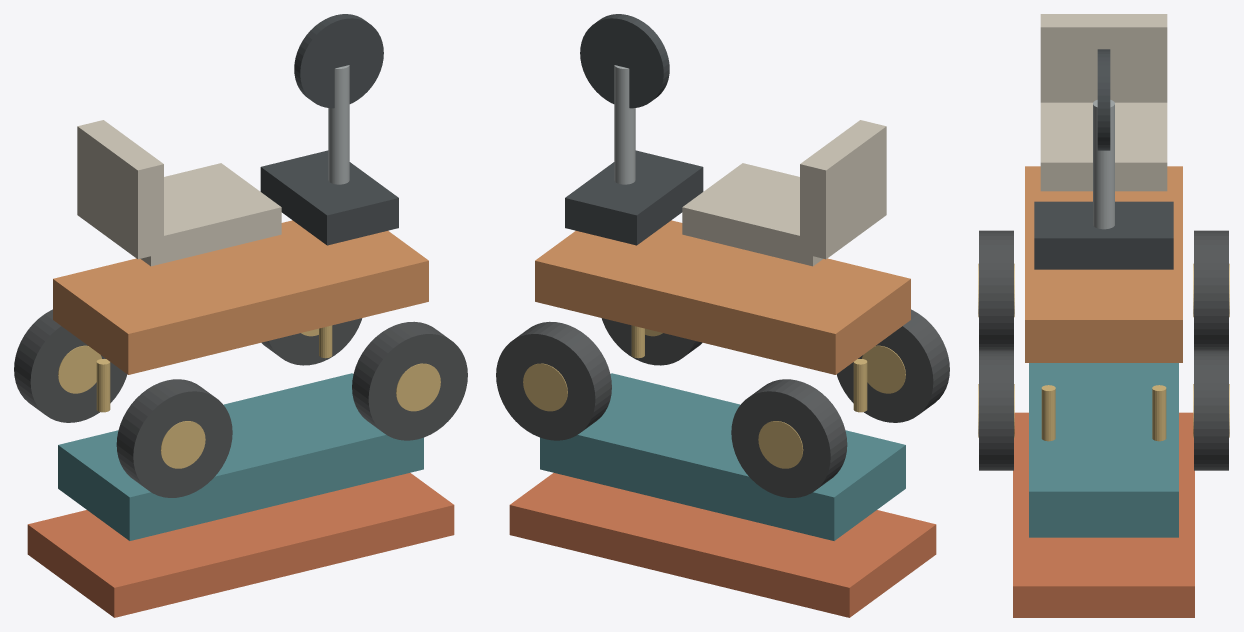
File: engineering-exploded.glb
3 views of the same model, side by side, from view 1: azimuth 30°, elevation 25°; view 2: azimuth 150°, elevation 25°; view 3: azimuth 270°, elevation 25° (orthographic). The views are drawn at different scales.
Parts seen in each view (by area): view 1: upper_body_shell, base_platform, lower_chassis, seat_back, wheel_-0.9_0.68, wheel_0.9_0.68, seat_cushion, dashboard, steering_ring, wheel_-0.9_-0.68, steering_stem, wheel_0.9_-0.68 (+4 smaller); view 2: upper_body_shell, base_platform, lower_chassis, seat_back, wheel_-0.9_-0.68, wheel_0.9_-0.68, seat_cushion, dashboard, steering_ring, wheel_-0.9_0.68, steering_stem, wheel_0.9_0.68 (+4 smaller); view 3: lower_chassis, base_platform, upper_body_shell, seat_back, seat_cushion, dashboard, wheel_-0.9_-0.68, wheel_-0.9_0.68, wheel_0.9_-0.68, wheel_0.9_0.68, steering_stem, steering_ring (+2 smaller).
Boxes of the visible parts, <box> form: upper_body_shell: <box>53,220,428,374</box>; base_platform: <box>27,473,454,617</box>; lower_chassis: <box>58,373,423,540</box>; seat_back: <box>77,120,163,259</box>; wheel_-0.9_0.68: <box>116,379,232,497</box>; wheel_0.9_0.68: <box>352,321,467,440</box>; seat_cushion: <box>140,163,281,266</box>; dashboard: <box>260,150,398,245</box>; steering_ring: <box>294,14,383,108</box>; wheel_-0.9_-0.68: <box>14,309,127,422</box>; steering_stem: <box>328,65,349,184</box>; wheel_0.9_-0.68: <box>261,318,362,365</box>; upper_body_shell: <box>535,220,910,374</box>; base_platform: <box>509,473,936,617</box>; lower_chassis: <box>540,373,905,540</box>; seat_back: <box>800,120,886,259</box>; wheel_-0.9_-0.68: <box>731,379,847,497</box>; wheel_0.9_-0.68: <box>496,321,611,440</box>; seat_cushion: <box>682,163,823,266</box>; dashboard: <box>565,150,703,245</box>; steering_ring: <box>580,14,669,108</box>; wheel_-0.9_0.68: <box>836,309,949,422</box>; steering_stem: <box>614,65,635,184</box>; wheel_0.9_0.68: <box>601,318,702,365</box>; lower_chassis: <box>1029,363,1178,537</box>; base_platform: <box>1013,412,1194,617</box>; upper_body_shell: <box>1025,166,1182,362</box>; seat_back: <box>1040,14,1167,102</box>; seat_cushion: <box>1040,102,1167,191</box>; dashboard: <box>1034,201,1173,269</box>; wheel_-0.9_-0.68: <box>1194,230,1228,350</box>; wheel_-0.9_0.68: <box>979,230,1013,350</box>; wheel_0.9_-0.68: <box>1194,350,1228,470</box>; wheel_0.9_0.68: <box>979,350,1013,470</box>; steering_stem: <box>1093,100,1114,229</box>; steering_ring: <box>1097,49,1110,150</box>.
Size of the model in its own units: 2.6 by 3.68 by 1.59.
